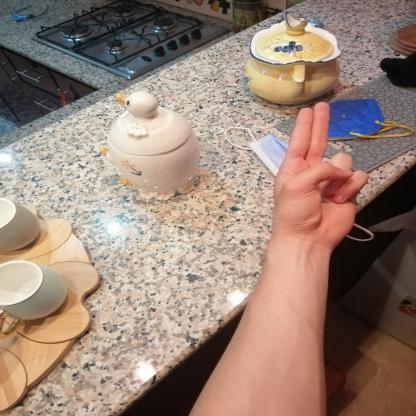TA: (258, 93, 378, 250)
